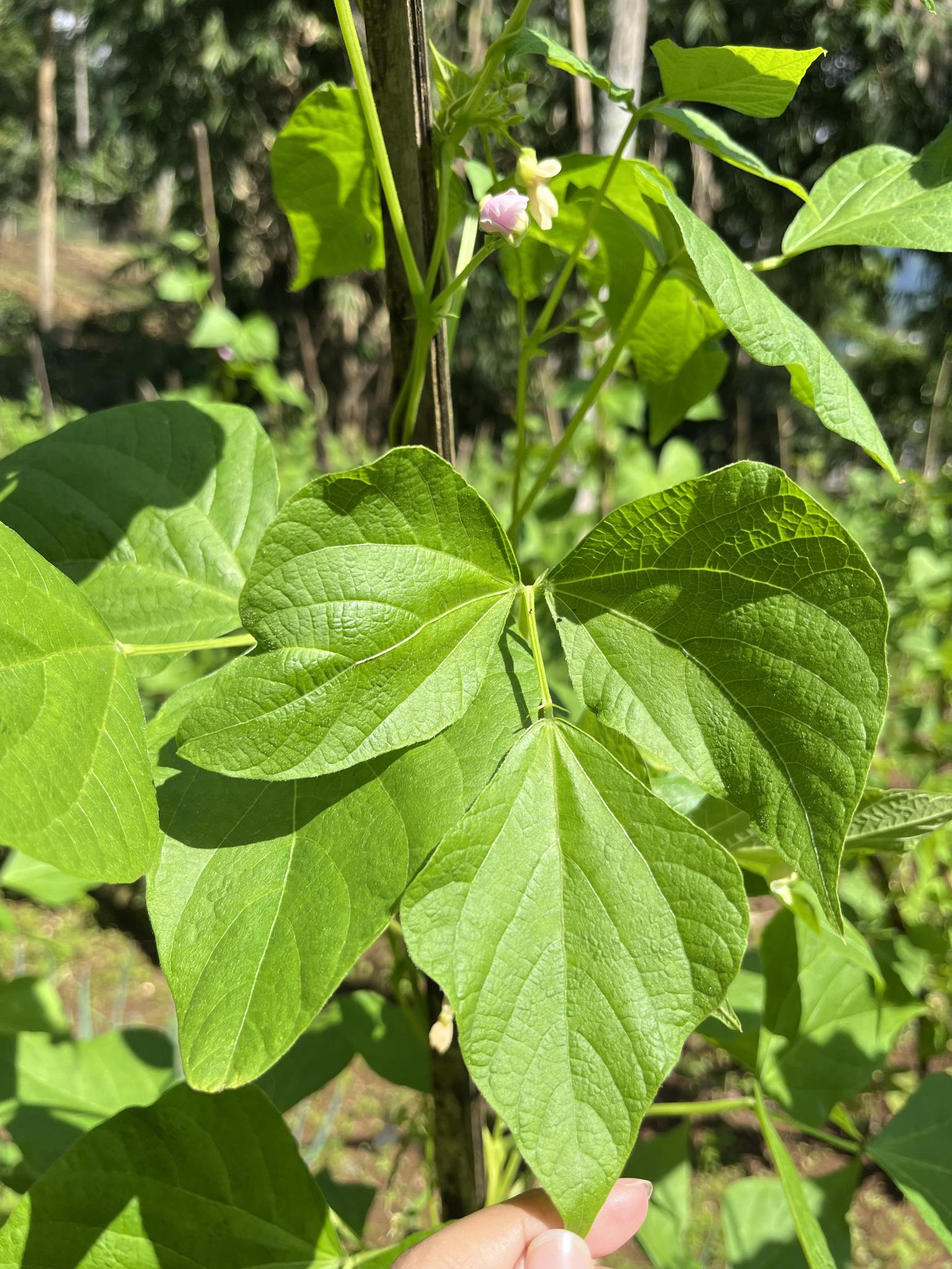sehat: (255, 473, 891, 1213)
